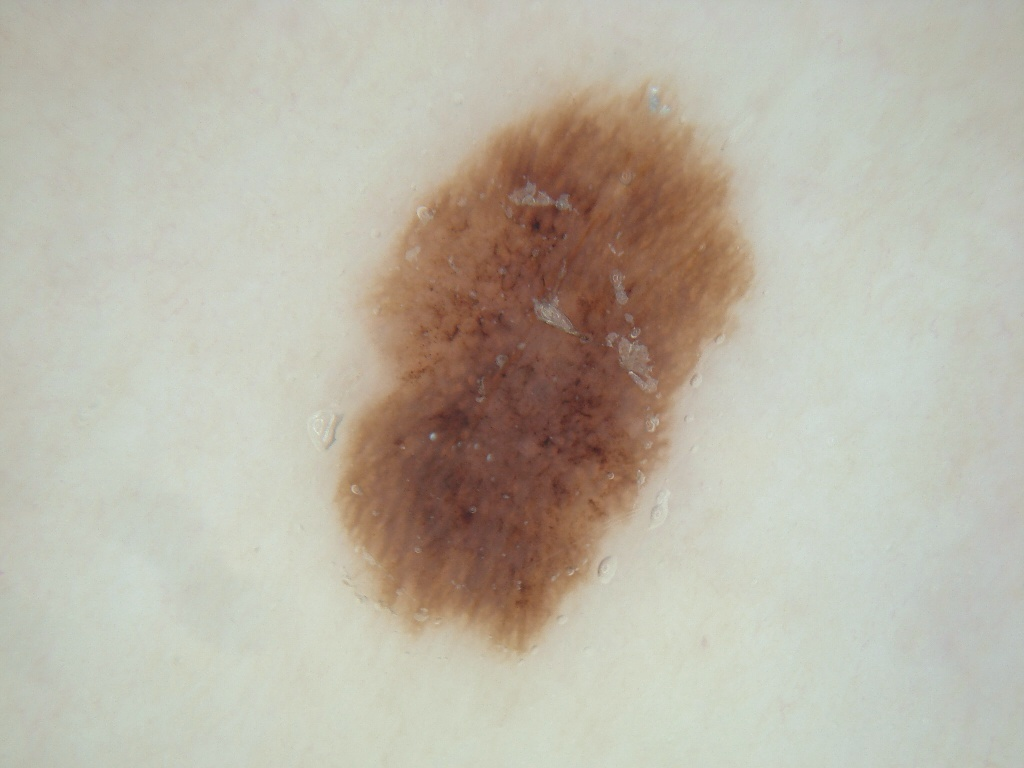Detected Lesion: (328, 73, 760, 658)
